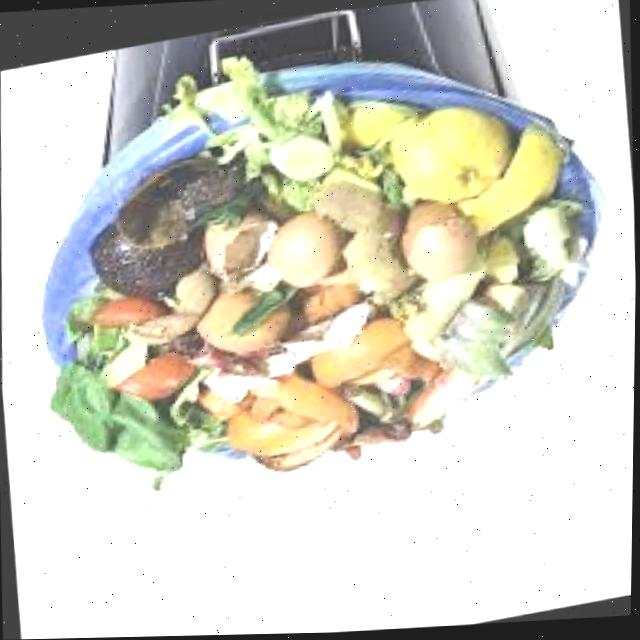Garbage: (53, 53, 586, 508)
